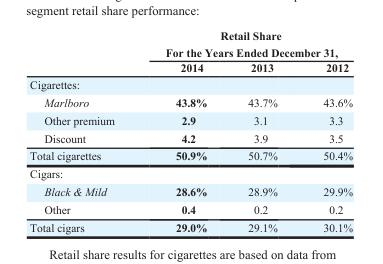table: (29, 29, 352, 233)
table column: (29, 29, 139, 233), (139, 29, 226, 233), (226, 29, 299, 233), (299, 29, 352, 233)
table column header: (29, 29, 352, 75)
table projected row header: (29, 164, 352, 182), (29, 75, 352, 92)
table row: (29, 29, 352, 59), (29, 92, 352, 110), (29, 110, 352, 128), (29, 128, 352, 146), (29, 146, 352, 164), (29, 164, 352, 182), (29, 182, 352, 200), (29, 200, 352, 218), (29, 75, 352, 92), (29, 59, 352, 75), (29, 218, 352, 233)
table spanning cell: (139, 29, 352, 59)
